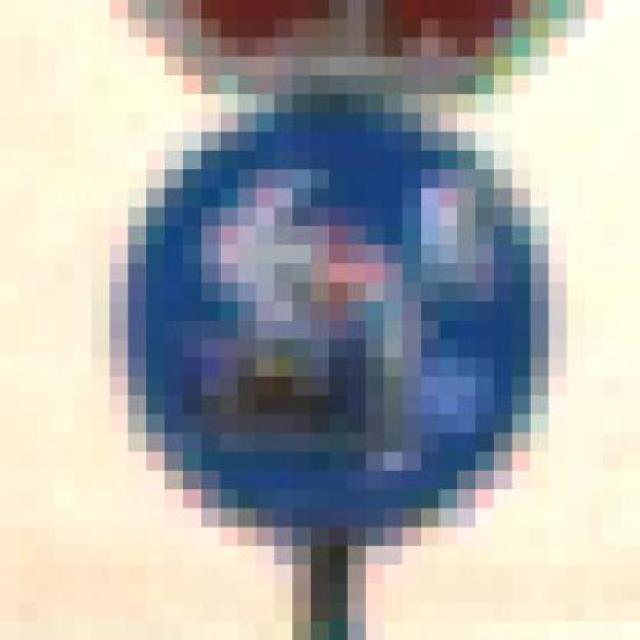Turn left ahead: (117, 93, 557, 564)
